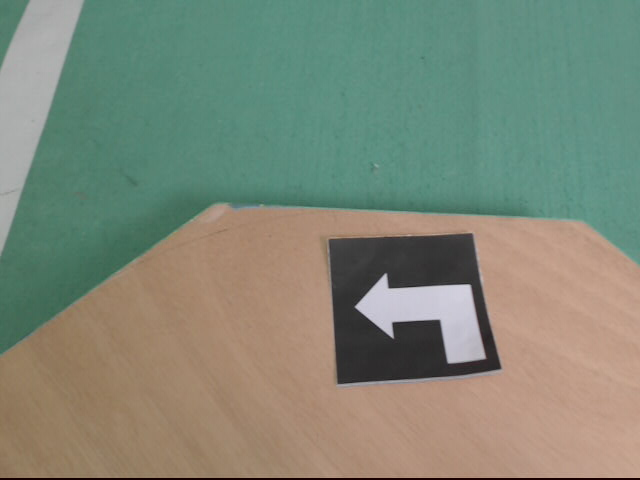left: (328, 233, 502, 387)
